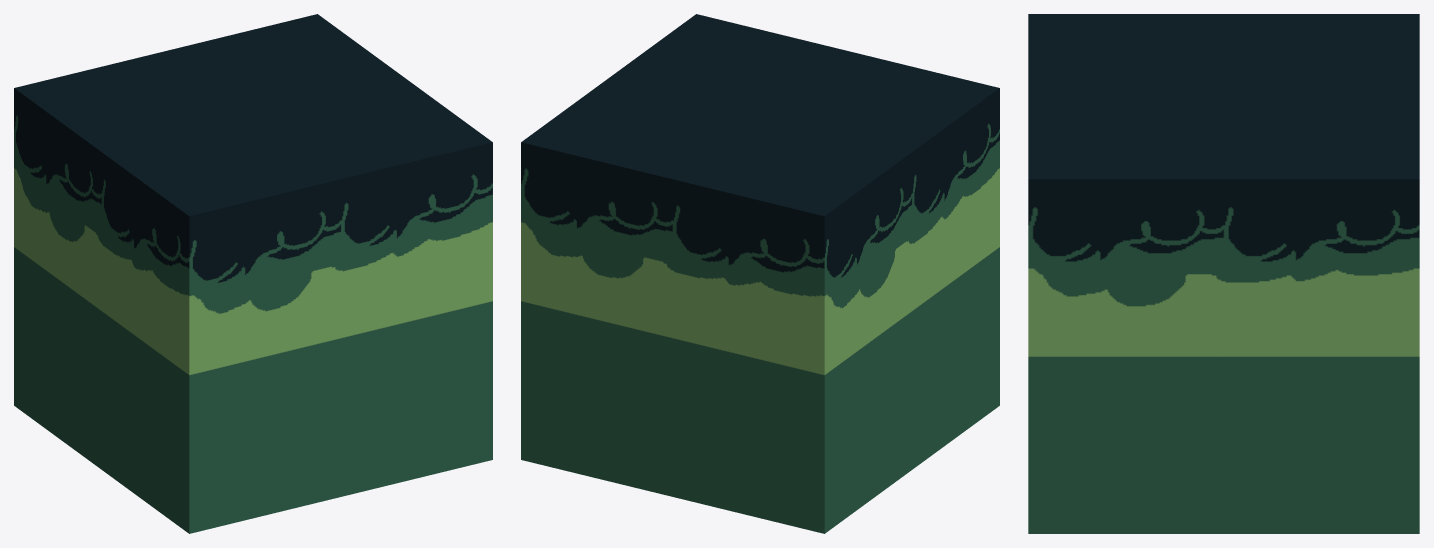
Rendered from city.obj.
3 renders of one model, left to right at view 1: azimuth 30°, elevation 25°; view 2: azimuth 150°, elevation 25°; view 3: azimuth 270°, elevation 25°, orthographic. The views are drawn at different scales.
Parts seen in each view (by area): view 1: Cube.001_Cube.004; view 2: Cube.001_Cube.004; view 3: Cube.001_Cube.004.
Part boxes in pixels (x1=…): Cube.001_Cube.004: x1=14, y1=14, x2=492, y2=533; Cube.001_Cube.004: x1=521, y1=14, x2=999, y2=533; Cube.001_Cube.004: x1=1028, y1=14, x2=1419, y2=533.
Size of the model in its own units: 640 by 640 by 640.
35 materials, 35 textured.
